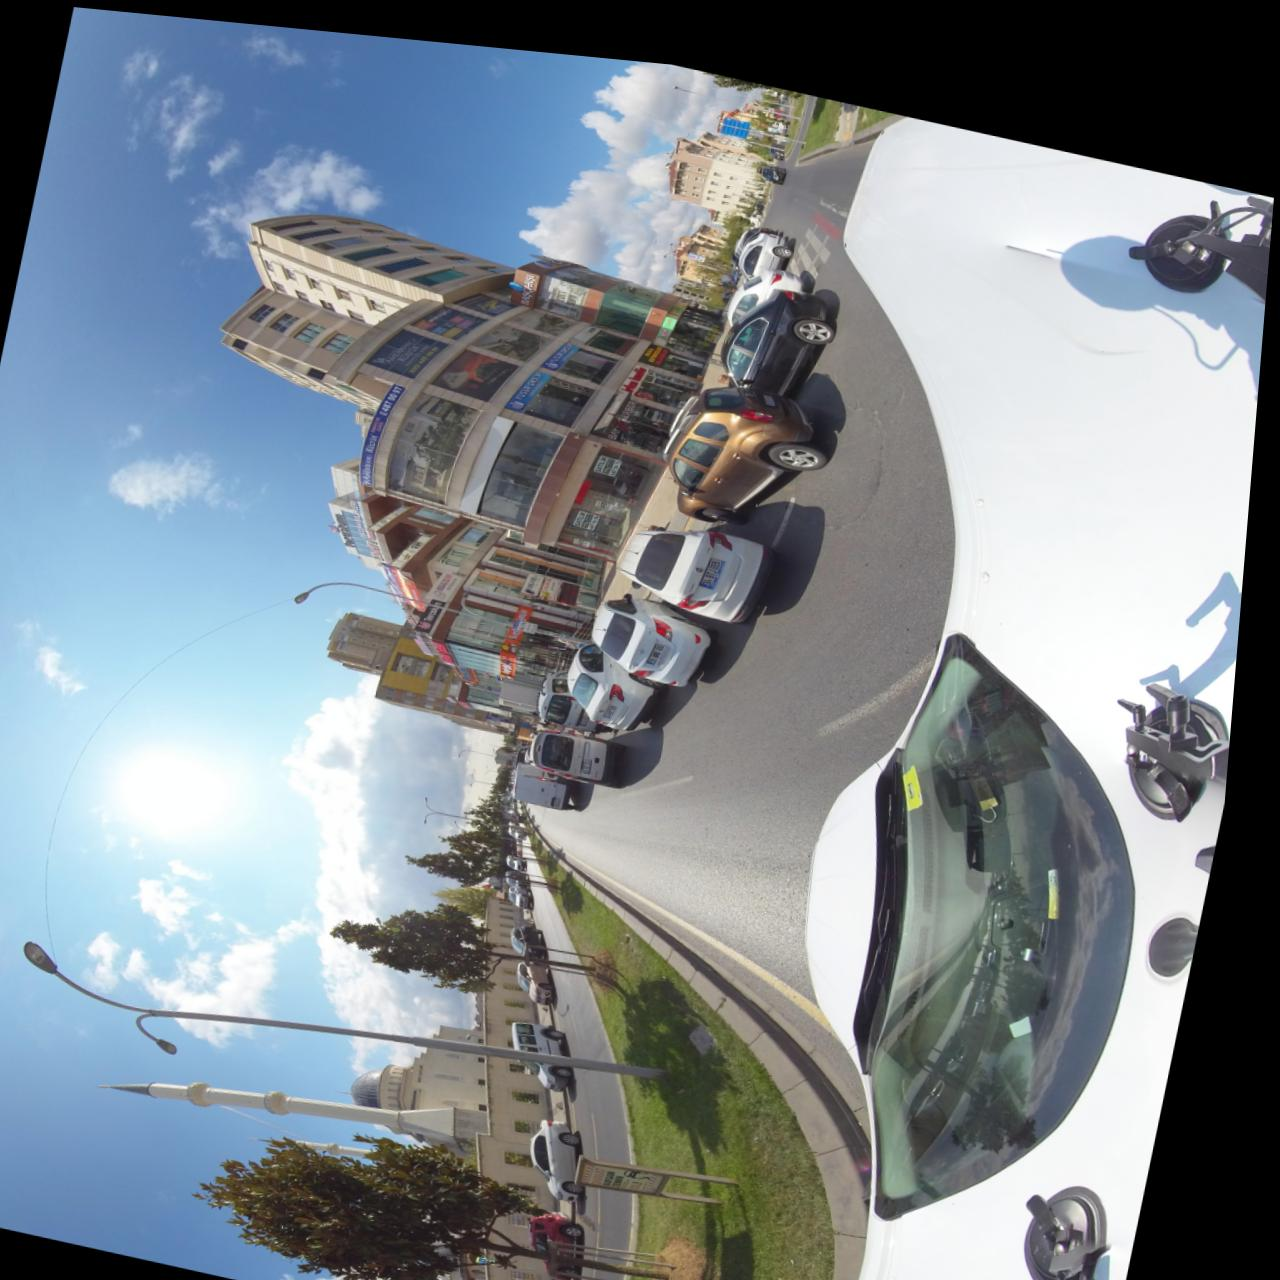SignStore: (511, 359, 557, 399), (544, 328, 586, 359), (435, 560, 471, 592), (424, 588, 455, 622), (624, 350, 655, 380), (440, 629, 467, 653), (513, 615, 535, 641), (530, 560, 553, 583), (549, 565, 571, 587), (662, 301, 683, 324), (646, 329, 669, 349), (512, 649, 524, 663), (674, 292, 688, 300)
